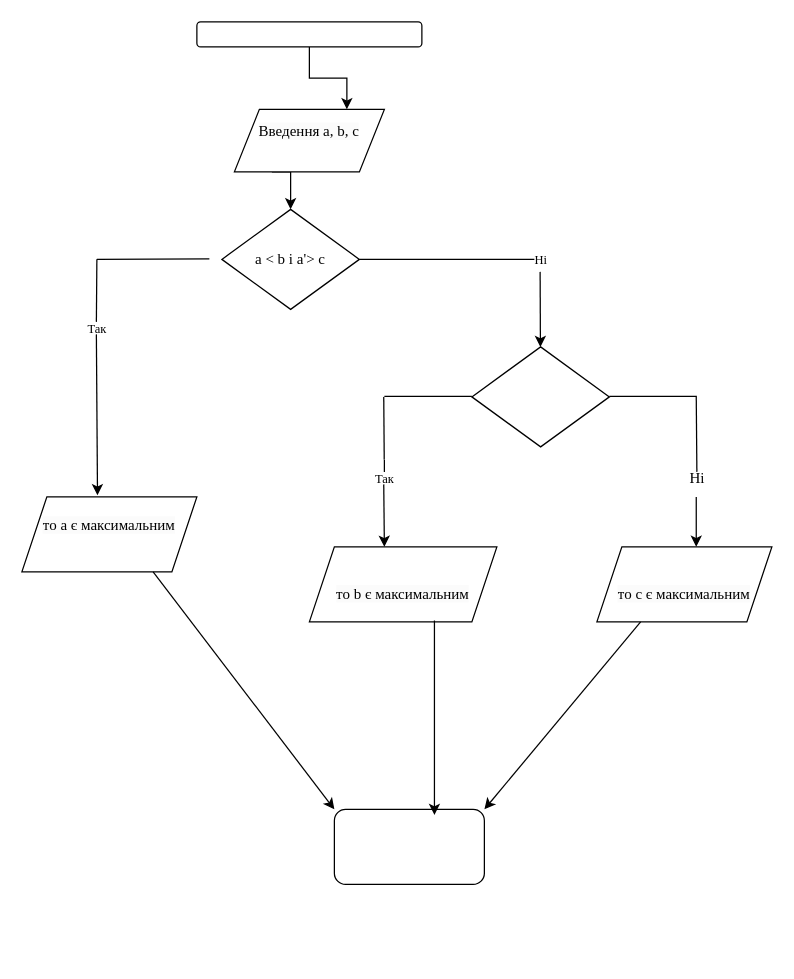
The diagram is 794 pixels wide and 979 high, and some of its shapes have lost their labels. Here are the shapes that lost their labels. From the top down, the centre of each, then its label:
point (309, 34): Початок
point (540, 396): b > a і b > c
point (408, 846): Кінець
